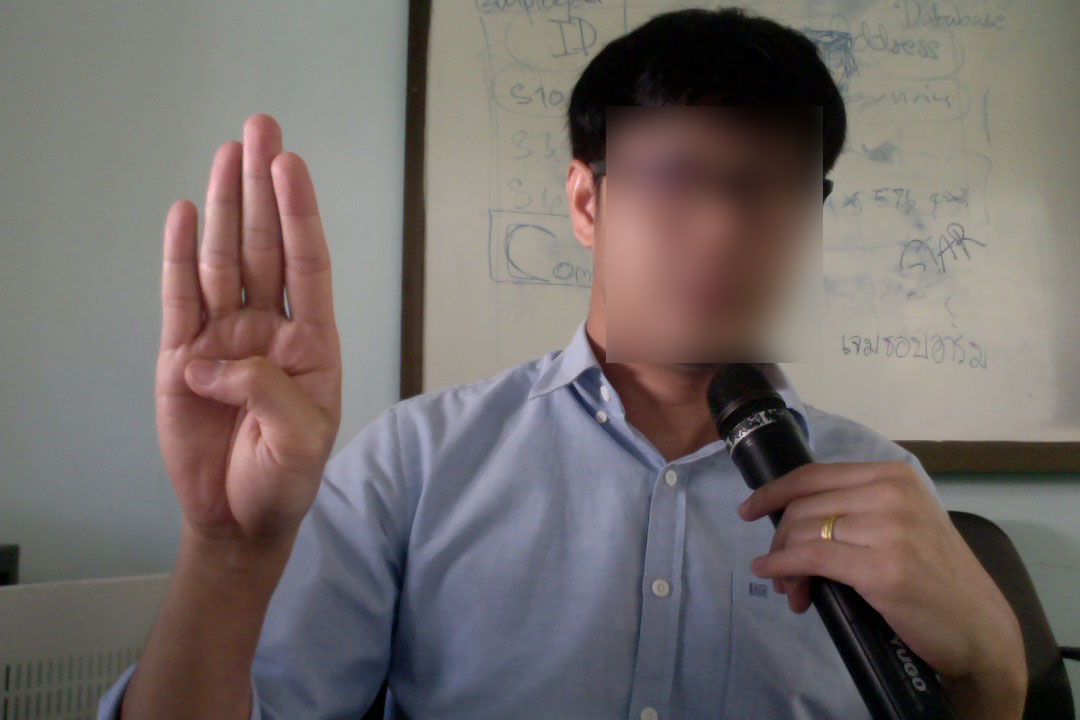bor: (136, 103, 344, 598)
